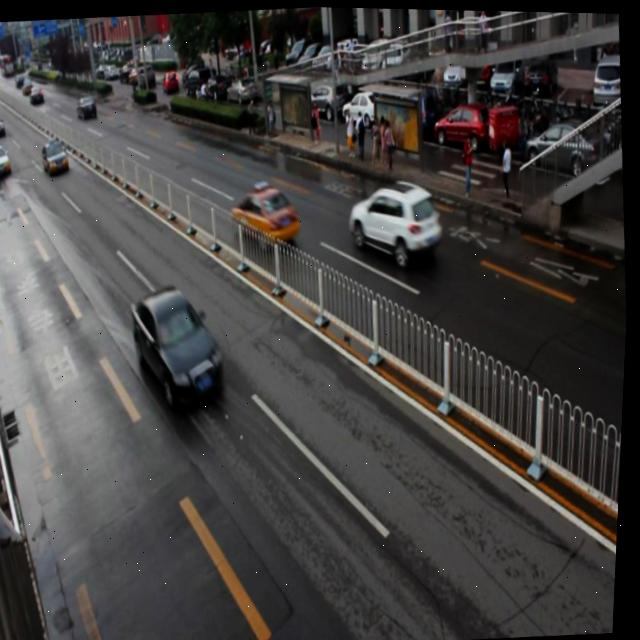car: (128, 280, 231, 407), (346, 174, 446, 266), (229, 178, 302, 248), (41, 136, 72, 178)
